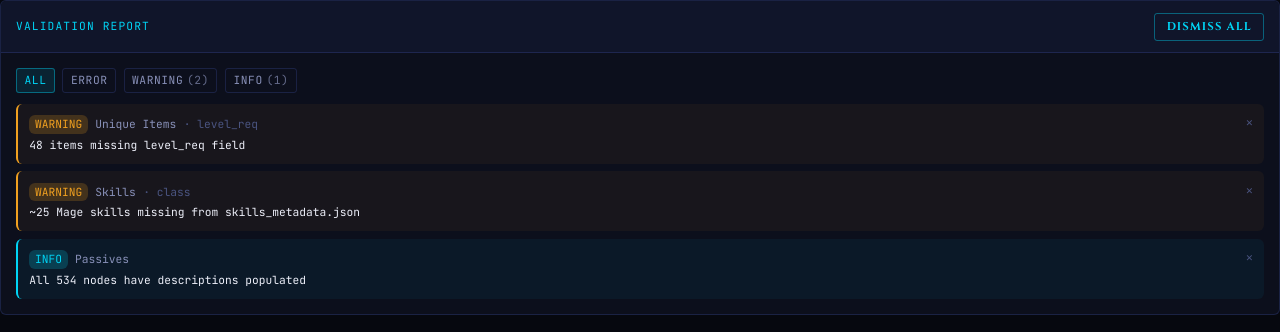
Test: ErrorReportingPanel › dismisses an error when dismiss button clicked
This screenshot has width=1280, height=332.
Step 1. Click the button named "Dismiss" → {"x": 1249, "y": 123}, box [1246,115,1253,130]
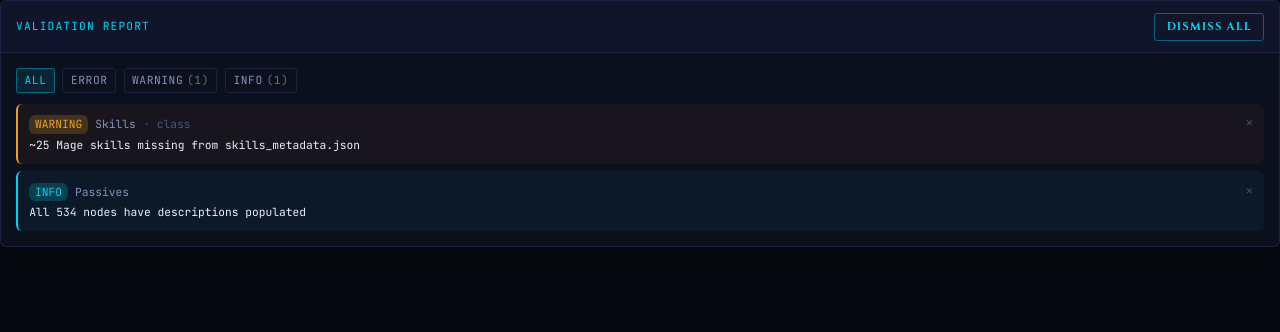
Check: the number of buttons named "Dismiss" is 2, box [1246,115,1253,130]; [1246,183,1253,198]
